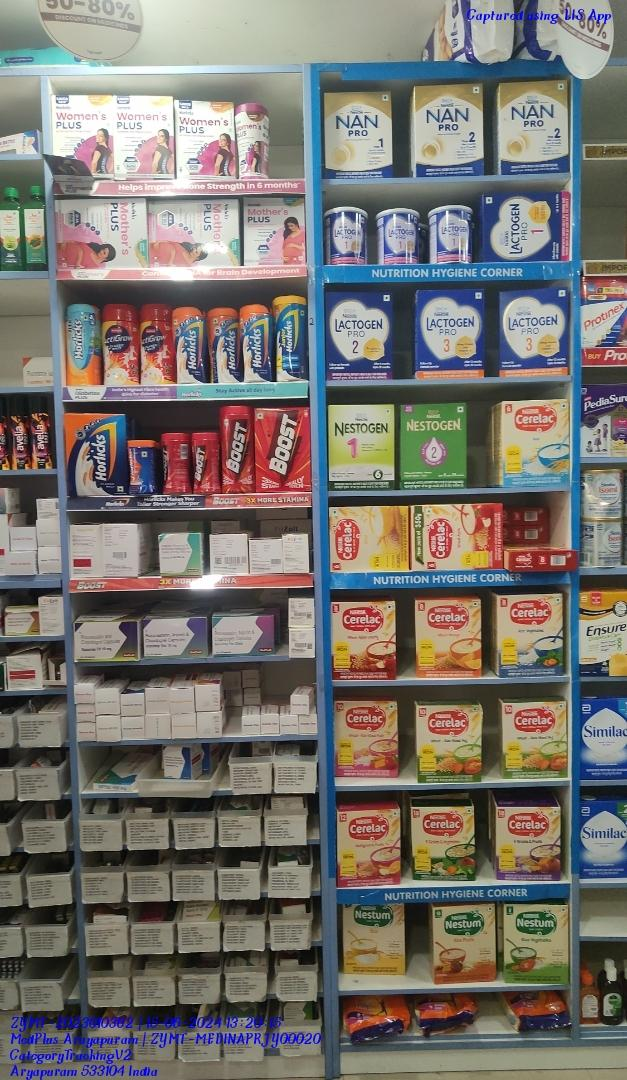HORLICKS_JUNIOR_VANILLA_500_GM_JAR: (276, 297, 307, 380)
HORLICKS_LITE_REGULAR_MALT_500_GM_JAR: (66, 305, 100, 386)
HORLICK_CLASSIC_MALT_200_G_JAR: (130, 440, 158, 496)
HORLICK_CLASSIC_MALT_500_G_JAR: (207, 308, 240, 384), (242, 305, 274, 381), (173, 308, 203, 383)
HORLICK_CLASSIC_MALT_500_G_PACK: (66, 414, 126, 494)
